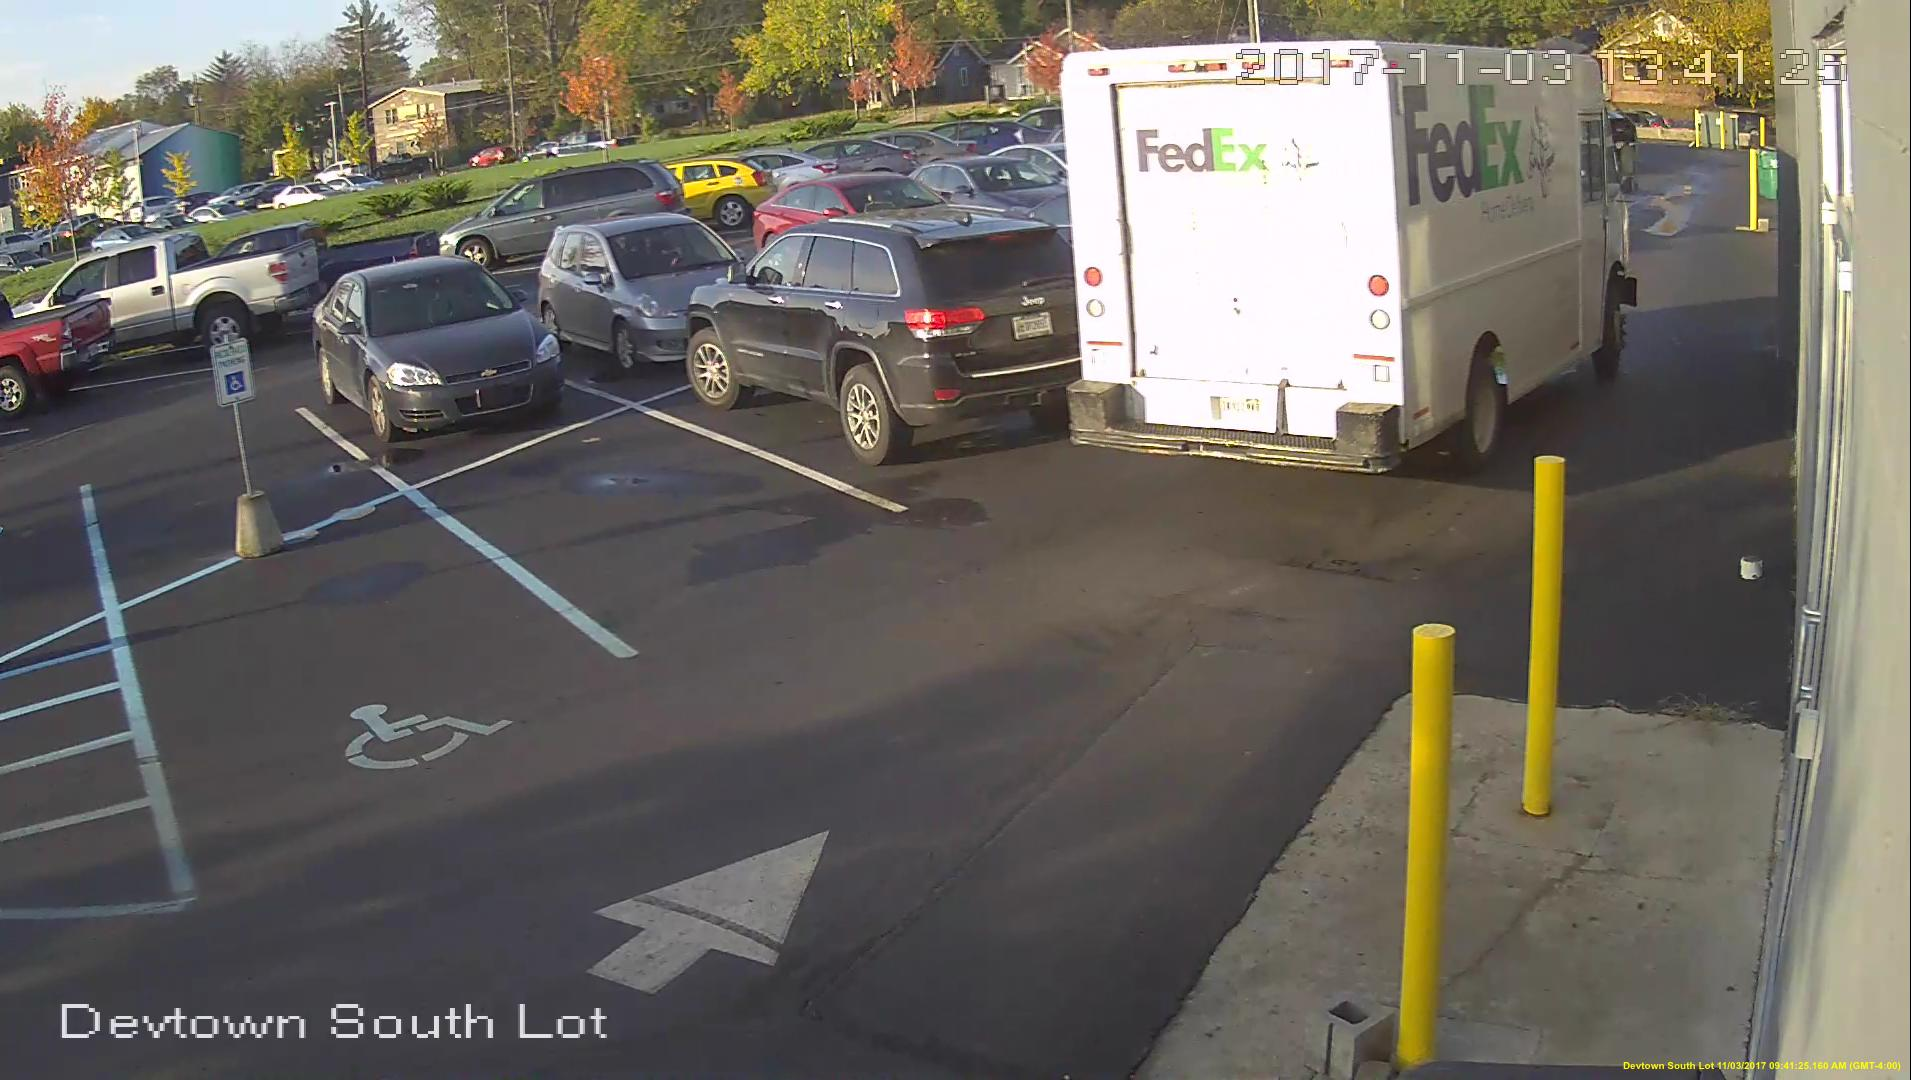fedex_truck: (1053, 37, 1648, 486)
